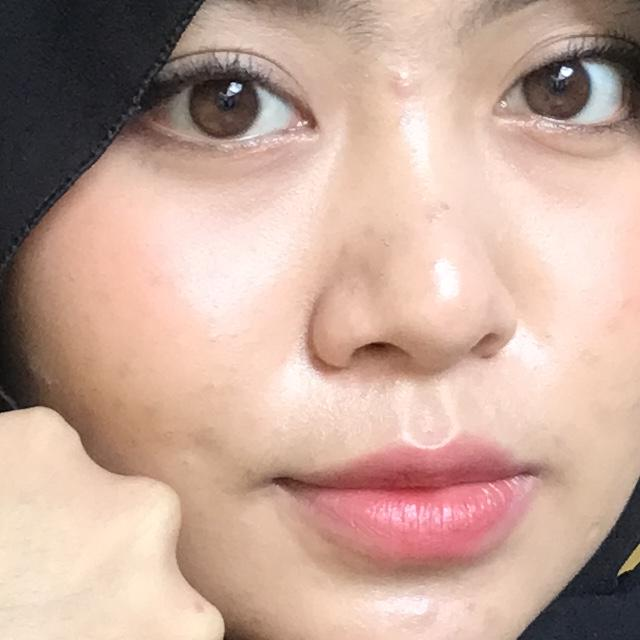telpon: (0, 116, 580, 640)
